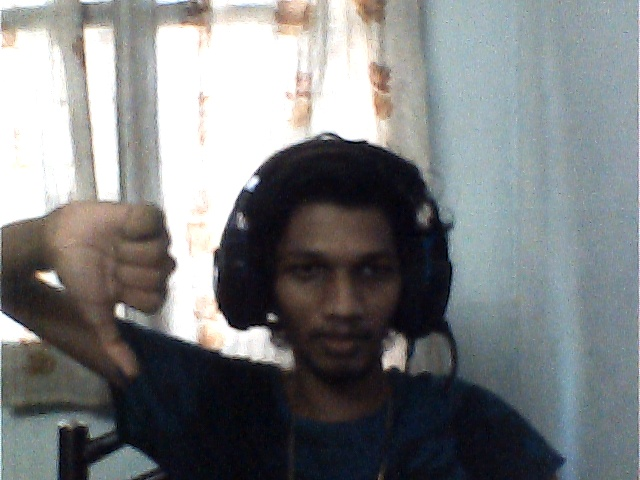ThumbsDown: (56, 201, 176, 380)
